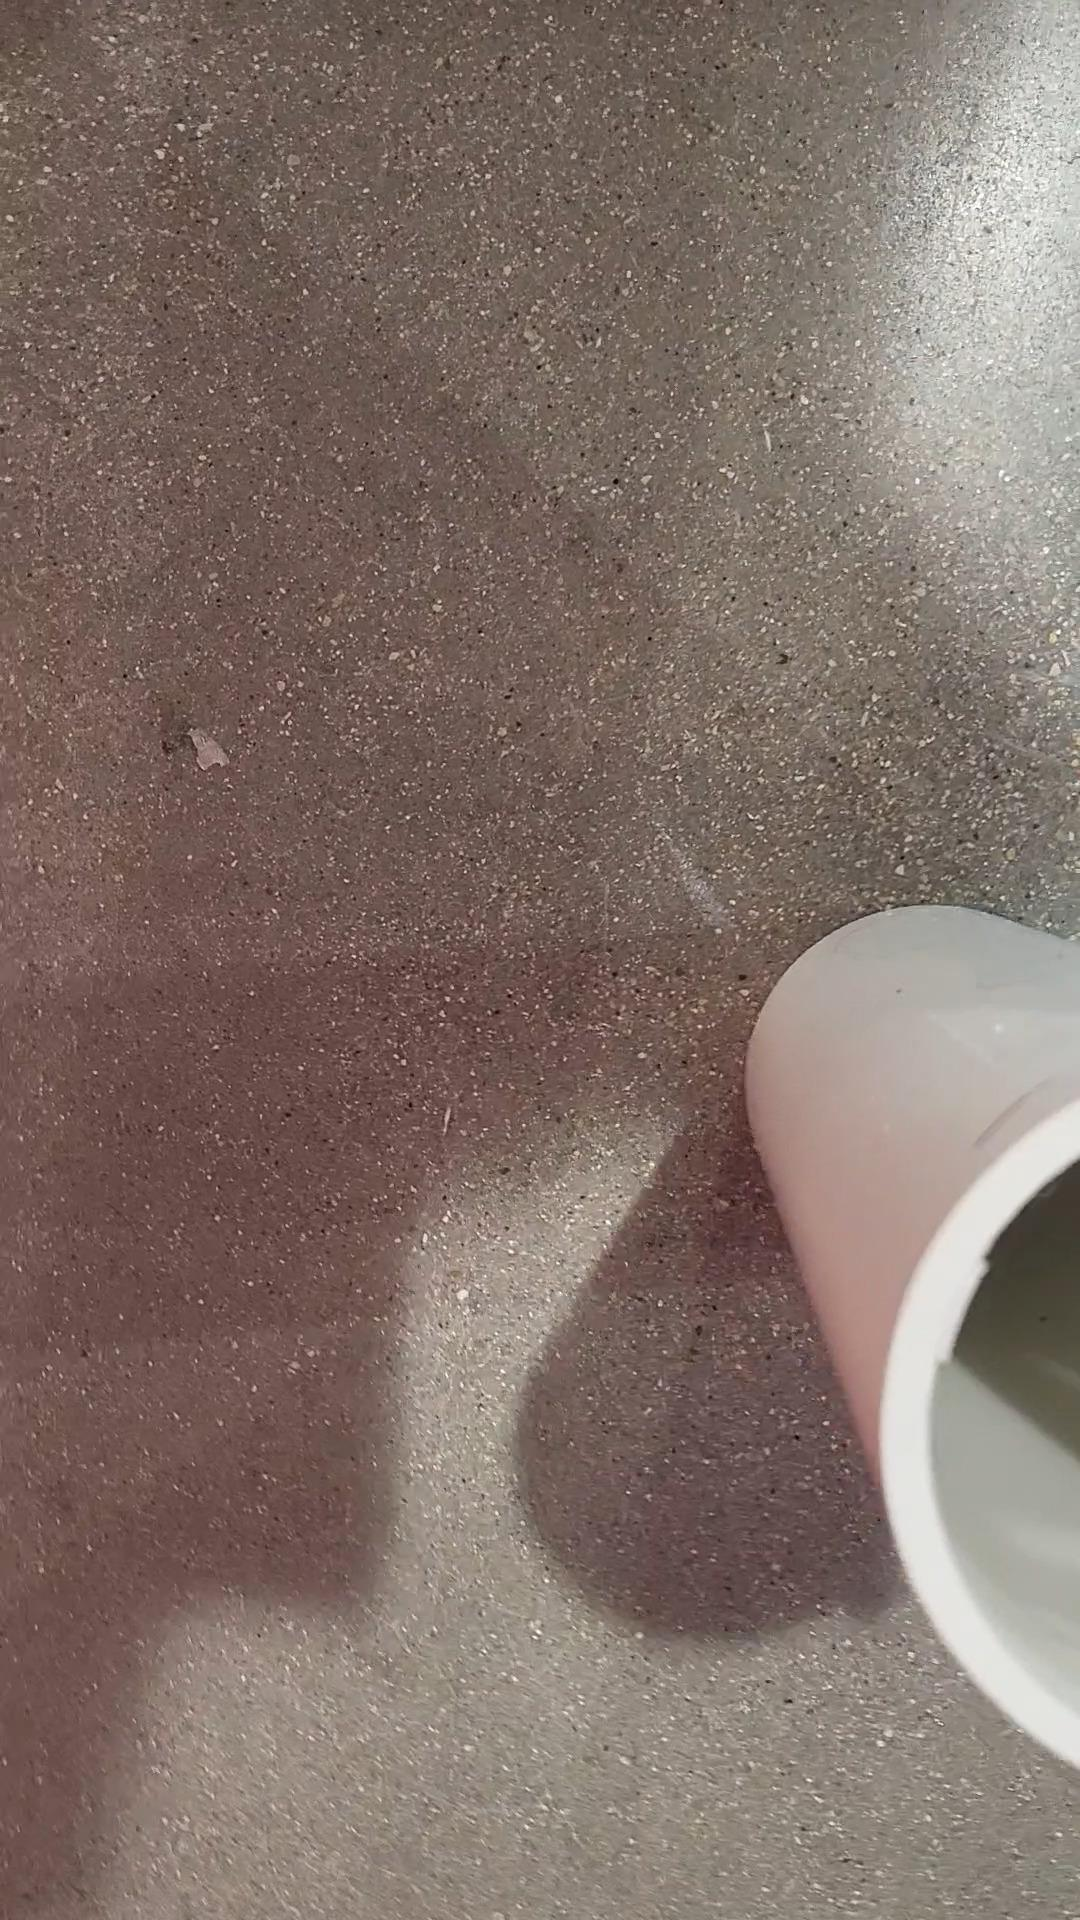coral: (731, 894, 1080, 1776)
